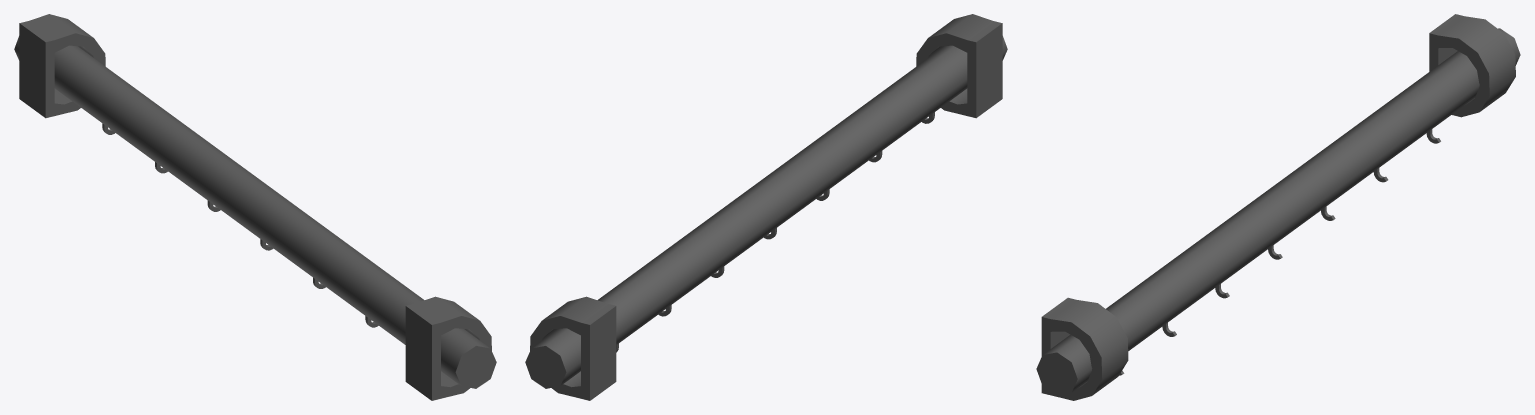
The model's file is rack.obj.
3 views of the same model, side by side, from view 1: azimuth 30°, elevation 25°; view 2: azimuth 150°, elevation 25°; view 3: azimuth 330°, elevation 25° (orthographic).
Parts seen in each view (by area): view 1: rack; view 2: rack; view 3: rack.
Boxes of the visible parts, box(x1,y1,x2,y2) form: rack: box(14, 14, 496, 400); rack: box(525, 14, 1007, 400); rack: box(1036, 14, 1520, 400).
Size of the model in its own units: 0.0631 by 0.0806 by 0.8.
Materials: 1 (1 with a texture image).
